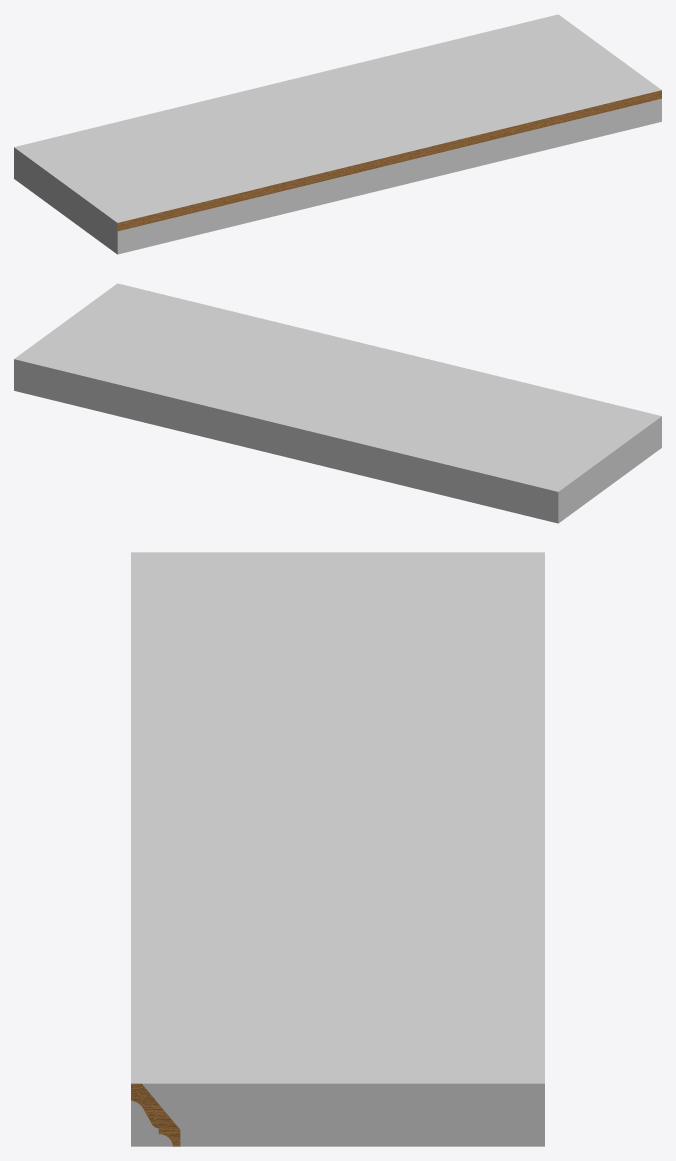
Rendered from VCKR0030.glb.
The picture shows the model from 3 angles, top to bottom: view 1: azimuth 30°, elevation 25°; view 2: azimuth 150°, elevation 25°; view 3: azimuth 270°, elevation 25°; orthographic projection. The views are drawn at different scales.
Parts seen in each view (by area): view 1: _bb01.002, _(Loose Entity).002; view 2: _bb01.002; view 3: _bb01.002, _(Loose Entity).002.
Boxes of the visible parts, <box> form: _bb01.002: <box>14,14,661,254</box>; _(Loose Entity).002: <box>117,90,661,231</box>; _bb01.002: <box>14,283,661,523</box>; _bb01.002: <box>131,552,544,1146</box>; _(Loose Entity).002: <box>131,1083,180,1146</box>.
Size of the model in its own units: 0.812 by 0.0451 by 0.2675.
1 material, 1 textured.
